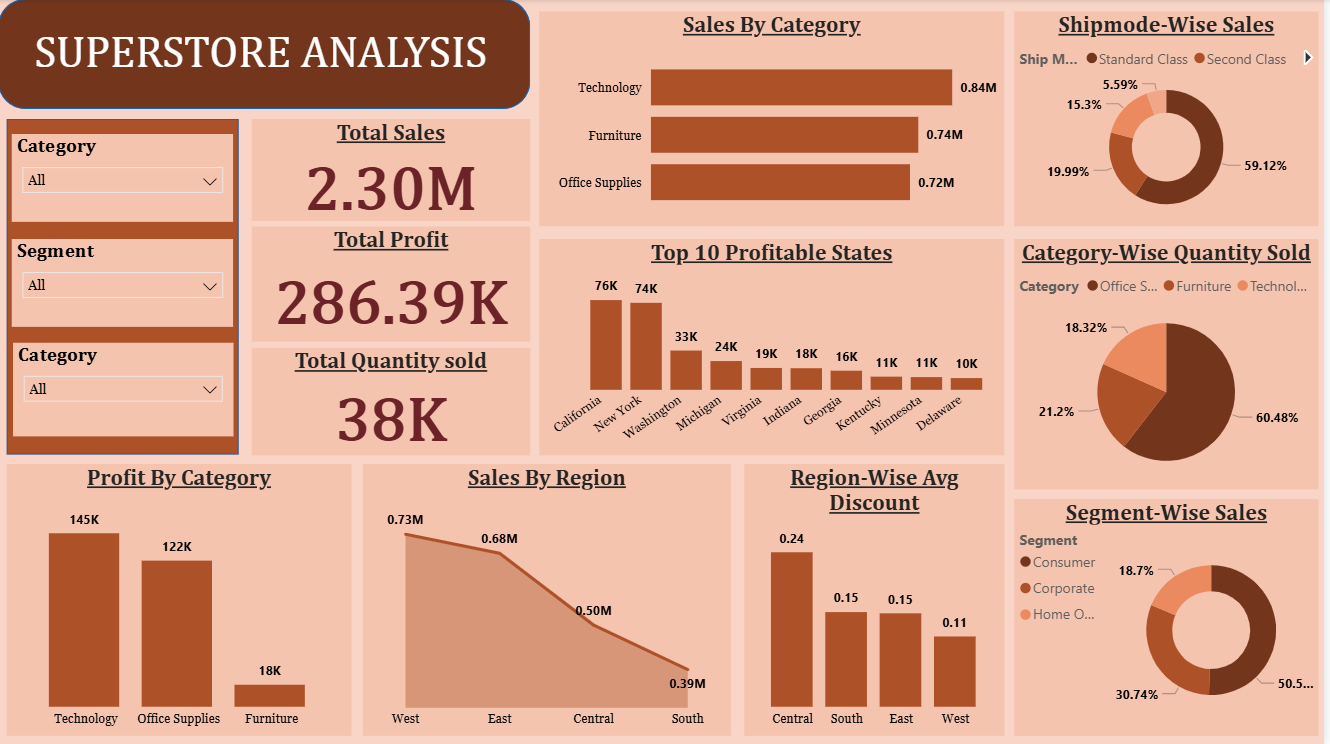

The page's visual inventory and layout, read from the dashboard file:
{"tool":"powerbi","page":{"name":"Overview","canvas":[1280,720],"ordinal":0},"visuals":[{"type":"areaChart","title":"Sales By Region","fields":{"Category":["SampleSuperstore.Region"],"Y":["Sum(SampleSuperstore.Sales)"]},"box":[352.5,448.8,355,262.5],"z":0},{"type":"columnChart","title":"Region-Wise Avg Discount","fields":{"Category":["SampleSuperstore.Region"],"Y":["SampleSuperstore.Avg_Discount"]},"box":[720,448.8,251.2,262.5],"z":1000},{"type":"barChart","title":"Sales By Category","fields":{"Category":["SampleSuperstore.Category"],"Y":["Sum(SampleSuperstore.Sales)"]},"box":[522.5,12.5,448.8,207.5],"z":2000},{"type":"columnChart","title":"Top 10 Profitable States","fields":{"Category":["SampleSuperstore.State"],"Y":["Sum(SampleSuperstore.Profit)"]},"box":[522.5,231.2,448.8,208.8],"z":3000},{"type":"columnChart","title":"Profit By Category","fields":{"Y":["Sum(SampleSuperstore.Profit)"],"Category":["SampleSuperstore.Category"]},"box":[8.8,448.8,332.5,262.5],"z":4000},{"type":"donutChart","title":"Segment-Wise Sales","fields":{"Y":["Sum(SampleSuperstore.Sales)"],"Category":["SampleSuperstore.Segment"]},"box":[981.2,482.5,293.8,228.8],"z":5000},{"type":"pieChart","title":"Category-Wise Quantity Sold","fields":{"Y":["Sum(SampleSuperstore.Quantity)"],"Category":["SampleSuperstore.Category"]},"box":[981.2,231.2,293.8,241.2],"z":6000},{"type":"donutChart","title":"Shipmode-Wise Sales","fields":{"Y":["Sum(SampleSuperstore.Sales)"],"Category":["SampleSuperstore.Ship Mode"]},"box":[981.2,12.5,293.8,207.5],"z":7000},{"type":"shape","box":[8.8,116.2,223.8,323.8],"z":8000},{"type":"card","title":"Total Sales","fields":{"Values":["SampleSuperstore.Total_Sales"]},"box":[245,116.2,268.8,98.8],"z":9000},{"type":"card","title":"Total Quantity sold","fields":{"Values":["SampleSuperstore.Total_Quantity"]},"box":[245,336.2,268.8,103.8],"z":10000},{"type":"card","title":"Total Profit","fields":{"Values":["SampleSuperstore.Total_Profit"]},"box":[245,220,268.8,111.2],"z":11000},{"type":"slicer","title":"Category","fields":{"Values":["SampleSuperstore.Category"]},"box":[13.8,130,213.8,85],"z":12000},{"type":"slicer","title":"Category","fields":{"Values":["SampleSuperstore.Ship Mode"]},"box":[15,331.2,212.5,90],"z":13000},{"type":"slicer","title":"Segment","fields":{"Values":["SampleSuperstore.Segment"]},"box":[13.8,231.2,213.8,85],"z":14000},{"type":"shape","box":[0,0,513.8,106.2],"z":15000},{"type":"textbox","box":[30,20,492.5,66.2],"z":16000}]}

Visuals, with their boxes in screenshot pixels (x1, y1, x2, y2), scaled from the page's 1280x720 canvas onto the 1330x744 screenshot:
"Sales By Region" areaChart: 366 464 735 735
"Region-Wise Avg Discount" columnChart: 748 464 1009 735
"Sales By Category" barChart: 543 13 1009 227
"Top 10 Profitable States" columnChart: 543 239 1009 455
"Profit By Category" columnChart: 9 464 355 735
"Segment-Wise Sales" donutChart: 1020 499 1325 735
"Category-Wise Quantity Sold" pieChart: 1020 239 1325 488
"Shipmode-Wise Sales" donutChart: 1020 13 1325 227
shape: 9 120 242 455
"Total Sales" card: 255 120 534 222
"Total Quantity sold" card: 255 347 534 455
"Total Profit" card: 255 227 534 342
"Category" slicer: 14 134 236 222
"Category" slicer: 16 342 236 435
"Segment" slicer: 14 239 236 327
shape: 0 0 534 110
textbox: 31 21 543 89
